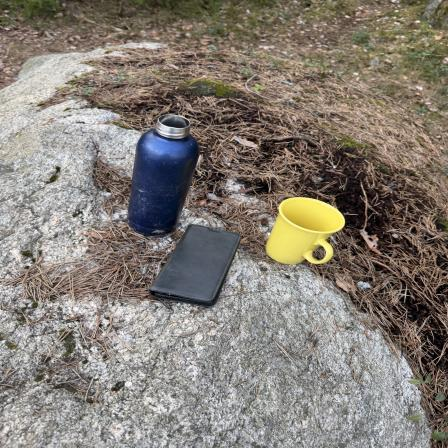blue_bottle: (130, 112, 200, 235)
phone: (158, 223, 240, 306)
yellow_cup: (266, 197, 345, 269)
